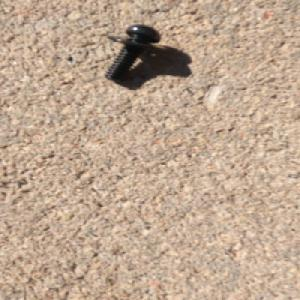BoltWasher: (103, 23, 168, 82)
